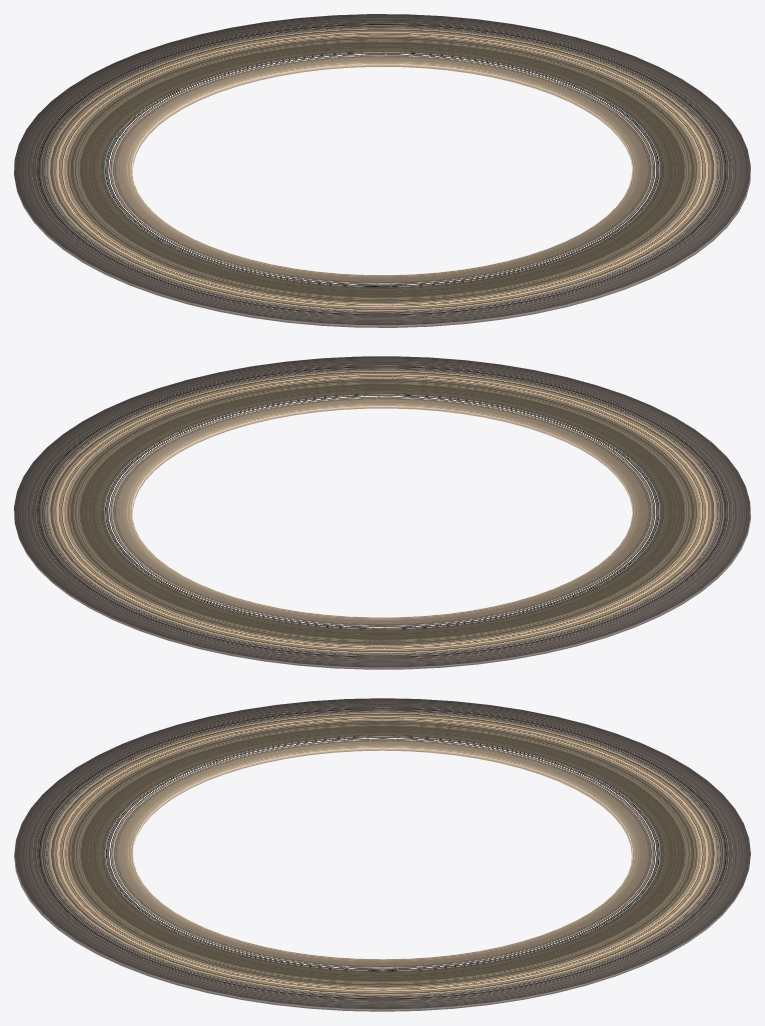
The model's file is rings_saturn.gltf.
3 views of the same model, one above another, from view 1: azimuth 30°, elevation 25°; view 2: azimuth 150°, elevation 25°; view 3: azimuth 270°, elevation 25° (orthographic).
Visible parts, largest first — view 1: Saturn; view 2: Saturn; view 3: Saturn.
Part boxes in pixels (x1,y1,x2,y2): Saturn: (14,14,750,327); Saturn: (14,356,750,669); Saturn: (14,698,750,1011).
Bounding box in the file's own units: 23.61 × 0.0923 × 23.63.
1 material, 1 textured.
